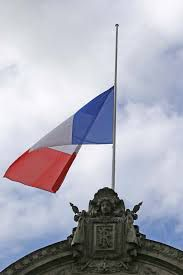French Flag: (4, 82, 113, 193)
